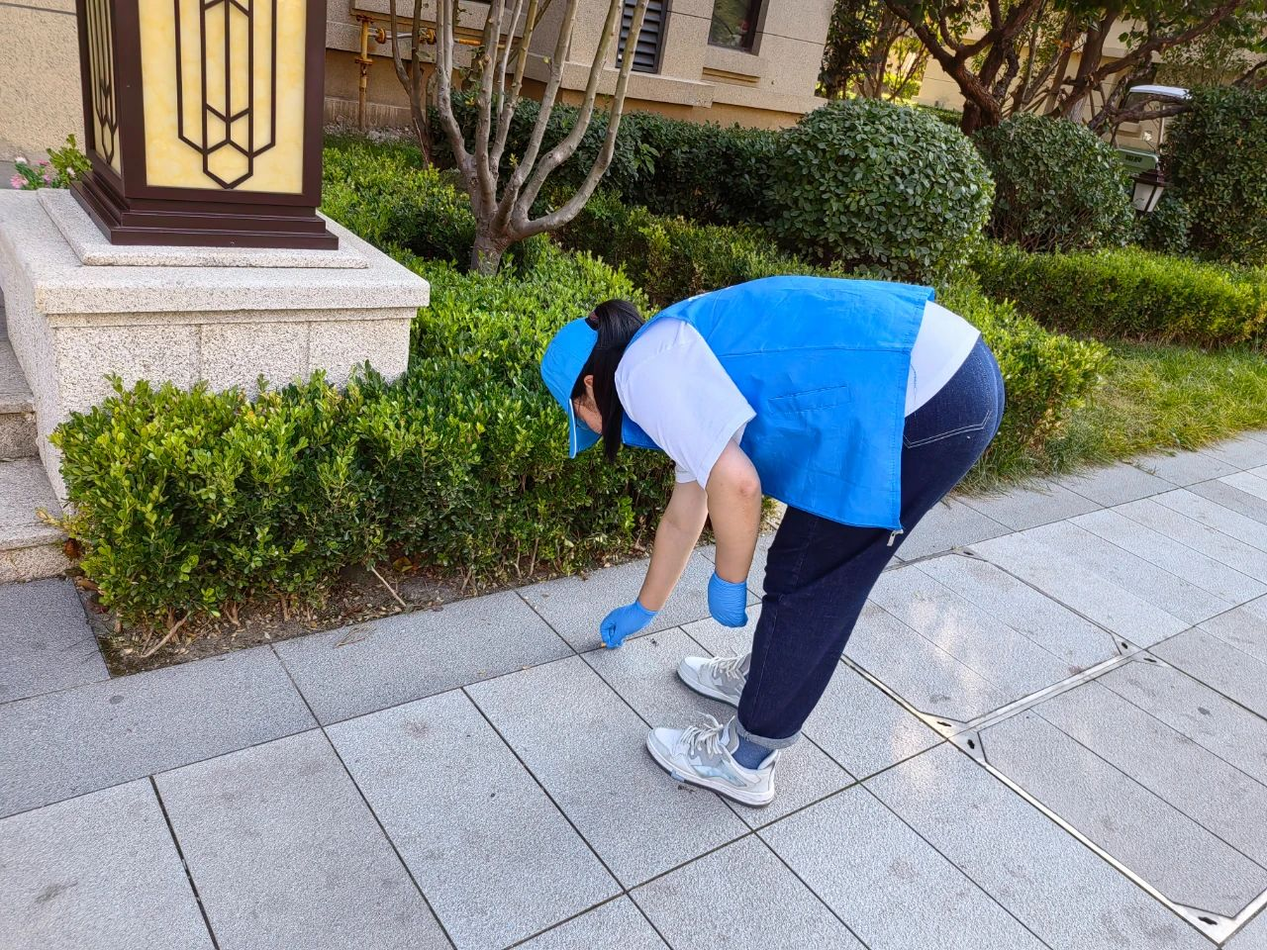bending: (512, 265, 1020, 834)
